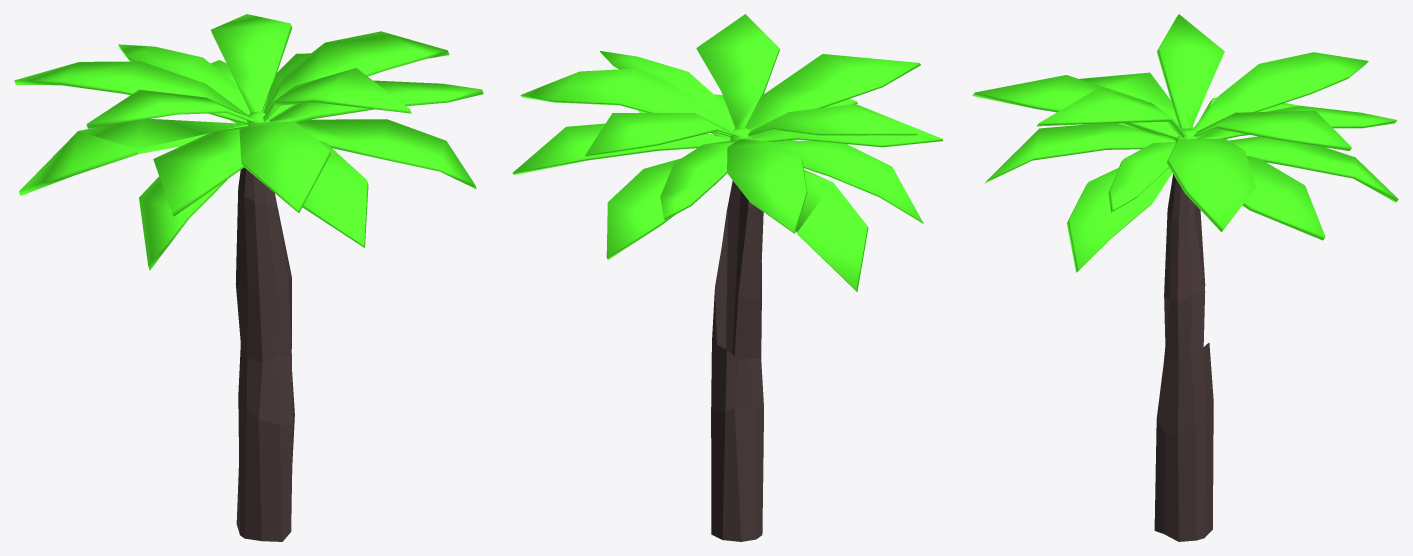
The model's file is palm.fbx.
The picture shows the model from 3 angles, left to right: view 1: azimuth 30°, elevation 25°; view 2: azimuth 150°, elevation 25°; view 3: azimuth 270°, elevation 25°; orthographic projection. The views are drawn at different scales.
Parts seen in each view (by area): view 1: blades, Palm; view 2: blades, Palm; view 3: blades, Palm.
Boxes of the visible parts, x1,y1,x2,y2 form: blades: [14, 14, 483, 270]; Palm: [235, 167, 294, 541]; blades: [512, 14, 943, 292]; Palm: [711, 180, 763, 541]; blades: [972, 14, 1398, 272]; Palm: [1154, 174, 1213, 541].
Size of the model in its own units: 1 by 1.15 by 1.
